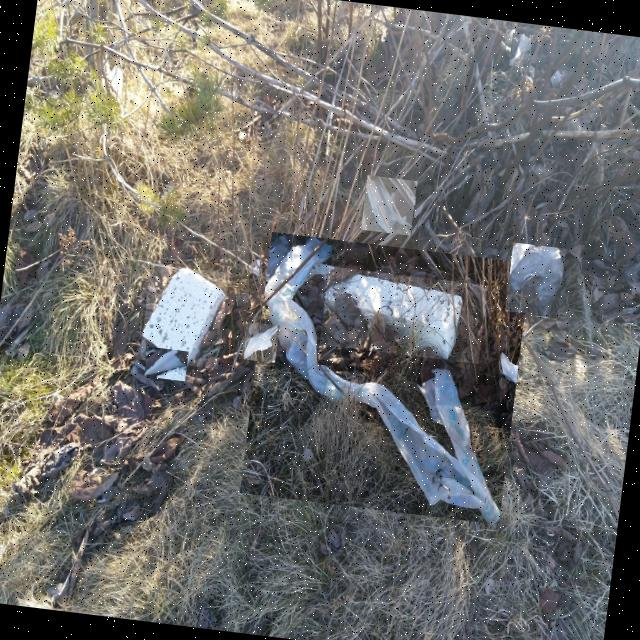Other plastic bottle: (146, 351, 186, 376)
Plastic film: (264, 237, 499, 524), (508, 245, 562, 315), (366, 176, 411, 233), (244, 325, 279, 359), (511, 34, 531, 66), (550, 71, 561, 88)
Styrofoam piece: (323, 281, 485, 345), (142, 268, 226, 365)
